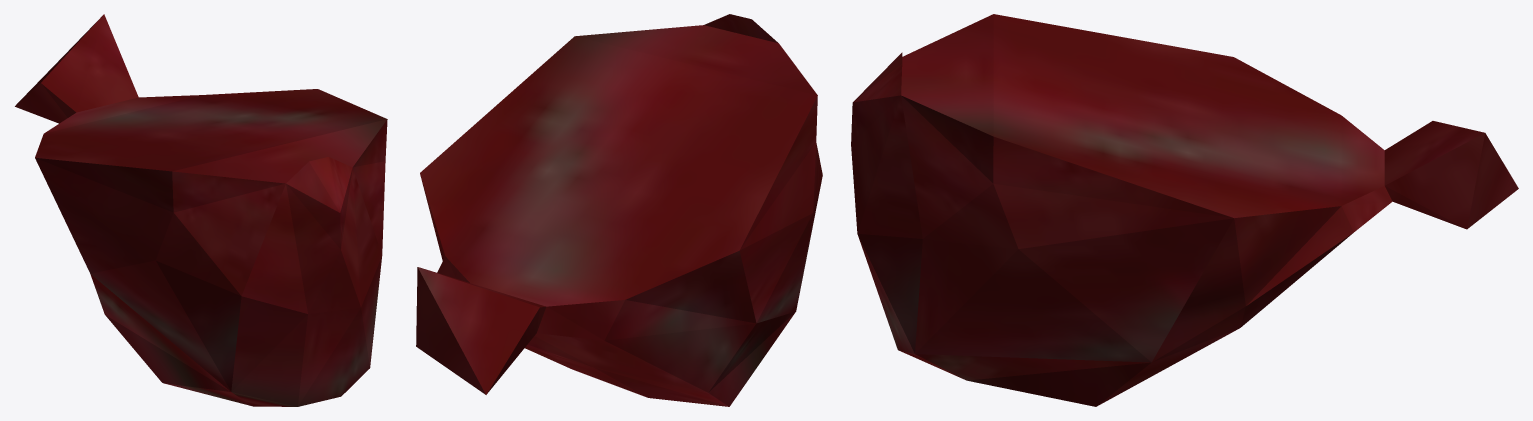
The model's file is CHUSTA_JCZ.glb.
3 views of the same model, side by side, from view 1: azimuth 30°, elevation 25°; view 2: azimuth 150°, elevation 25°; view 3: azimuth 270°, elevation 25° (orthographic). The views are drawn at different scales.
Visible parts, largest first — view 1: CHUSTA_JCZ; view 2: CHUSTA_JCZ; view 3: CHUSTA_JCZ.
Boxes of the visible parts, <box> form: CHUSTA_JCZ: <box>15,14,387,406</box>; CHUSTA_JCZ: <box>416,14,822,406</box>; CHUSTA_JCZ: <box>851,14,1518,406</box>.
Size of the model in its own units: 0.1928 by 0.18 by 0.3386.
1 material, 1 textured.
